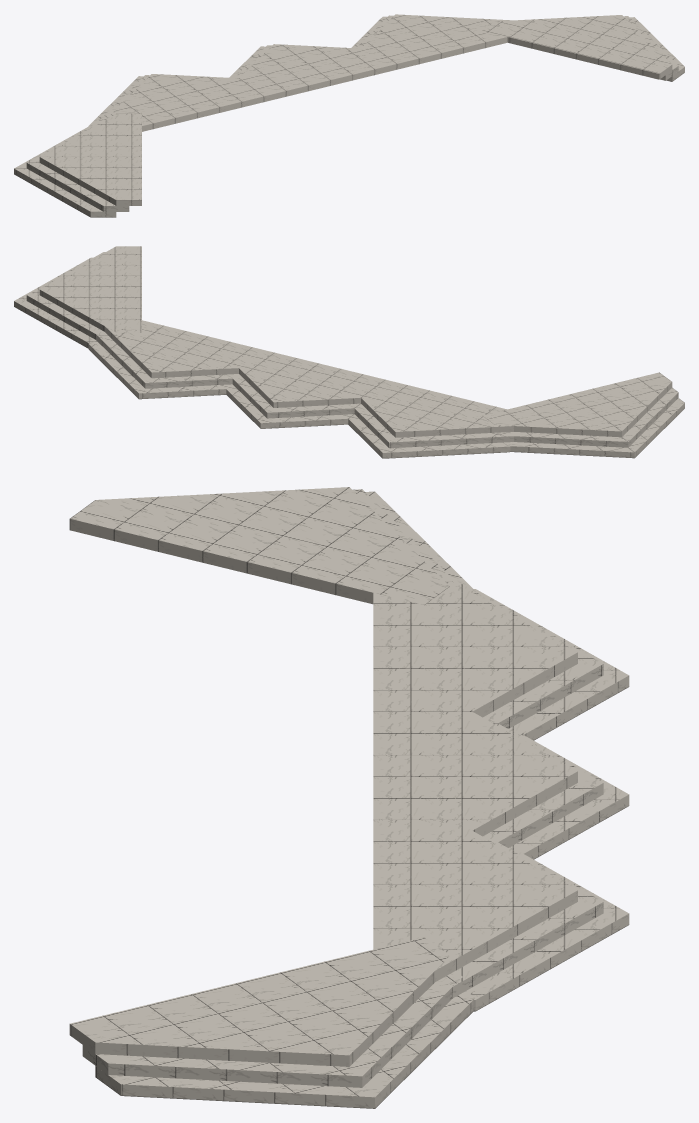
Rendered from OutsideStair.fbx.
3 renders of one model, top to bottom at view 1: azimuth 30°, elevation 25°; view 2: azimuth 150°, elevation 25°; view 3: azimuth 270°, elevation 25°, orthographic. The views are drawn at different scales.
Visible parts, largest first — view 1: whitemarbl Mesh (1); view 2: whitemarbl Mesh (1); view 3: whitemarbl Mesh (1).
Part boxes in pixels (bbox=[...]): whitemarbl Mesh (1): bbox=[14, 14, 684, 217]; whitemarbl Mesh (1): bbox=[14, 246, 684, 458]; whitemarbl Mesh (1): bbox=[69, 487, 629, 1108].
Size of the model in its own units: 56 by 1.5 by 21.86.
